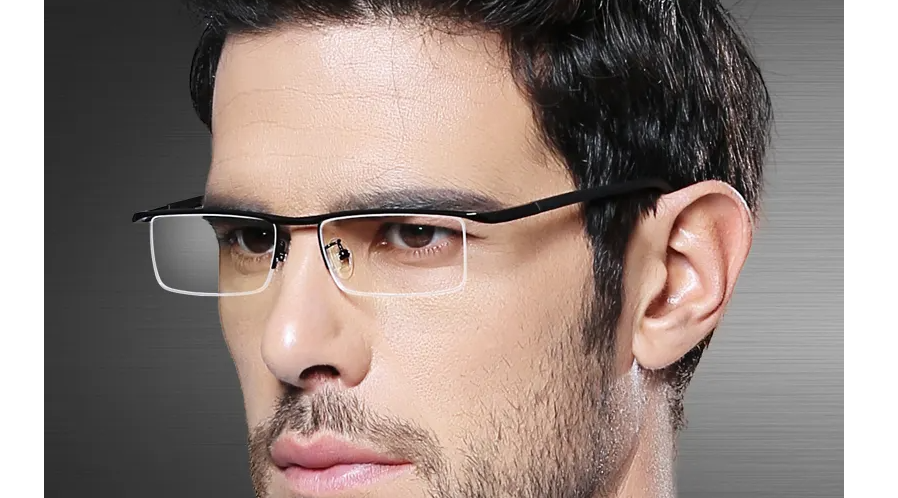glass: (128, 141, 697, 318)
mouth: (241, 397, 464, 497)
